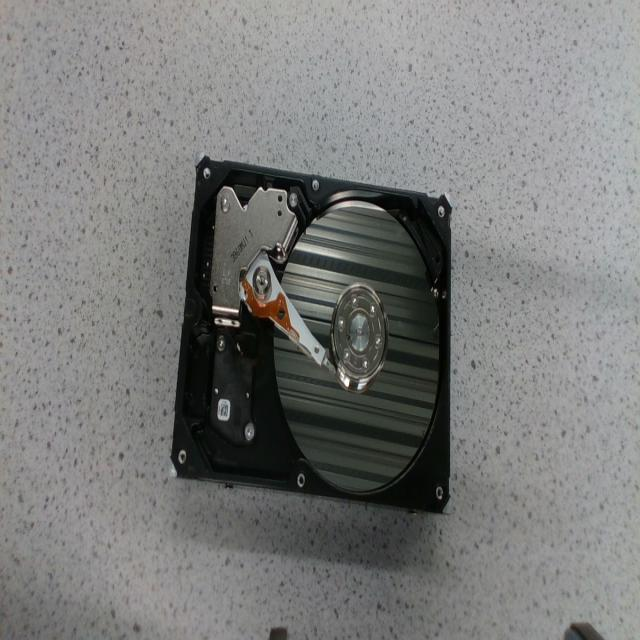actuator arm: (240, 251, 335, 373)
actuator axis: (254, 268, 268, 296)
case: (170, 154, 452, 512)
magnet: (210, 187, 297, 318)
pcb connector: (210, 331, 256, 444)
platter: (274, 204, 439, 492)
platter holder: (331, 283, 388, 390)
screw: (244, 421, 255, 440), (220, 195, 230, 212), (217, 335, 226, 351), (351, 294, 358, 308), (338, 319, 344, 331), (370, 304, 376, 316), (344, 349, 350, 360), (362, 359, 368, 369), (375, 337, 380, 348)
